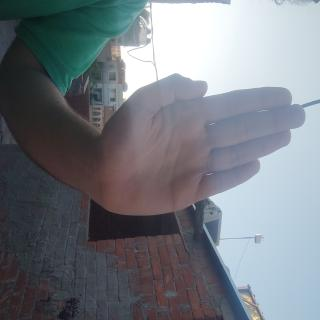SEEN: (53, 13, 166, 311)
